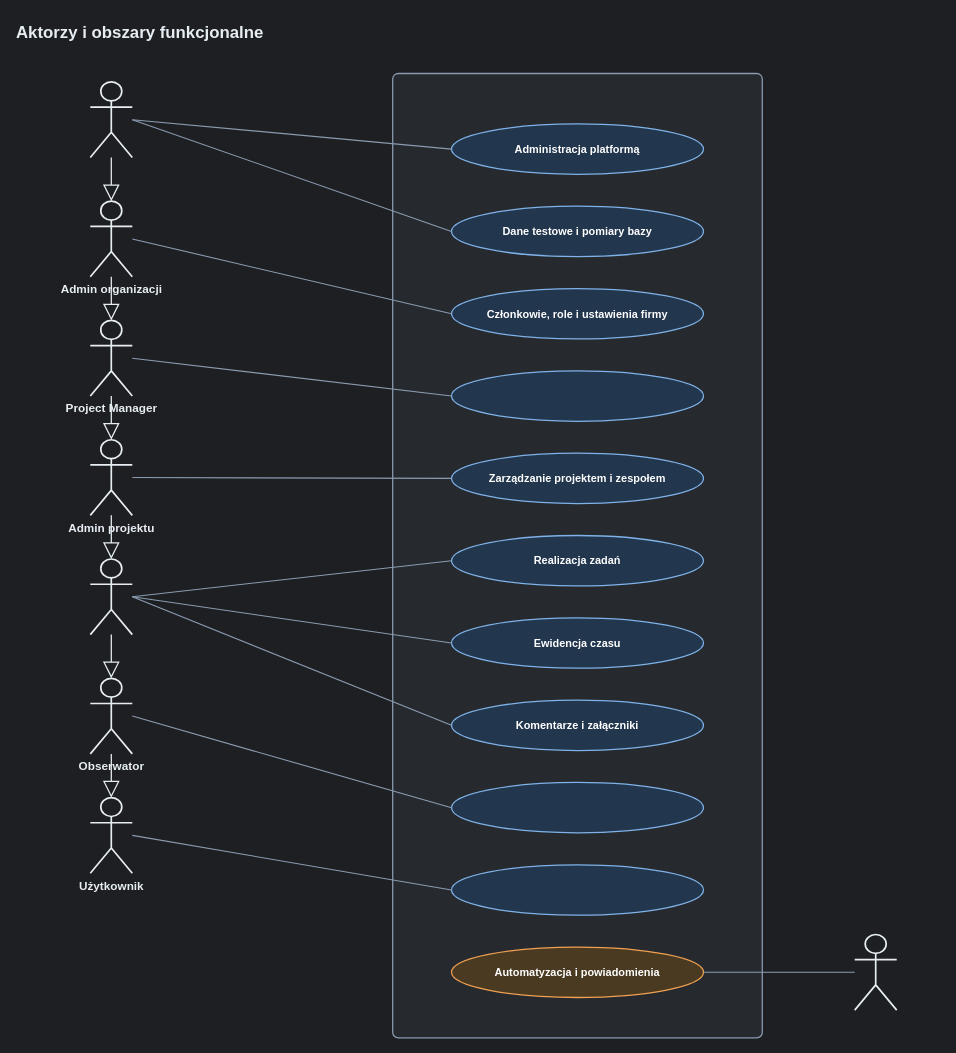
Some shapes in this 956 by 1053 pixel diagram are drawn without their labels. The centre of each missing label's shape, as x and y in pixels:
Admin systemu: (111,119)
Członek projektu: (111,596)
Konto i powiadomienia: (577,889)
Projekty, finansowanie i budżet: (577,396)
Przeglądanie projektów i zadań: (577,807)
System (harmonogram): (875,972)
